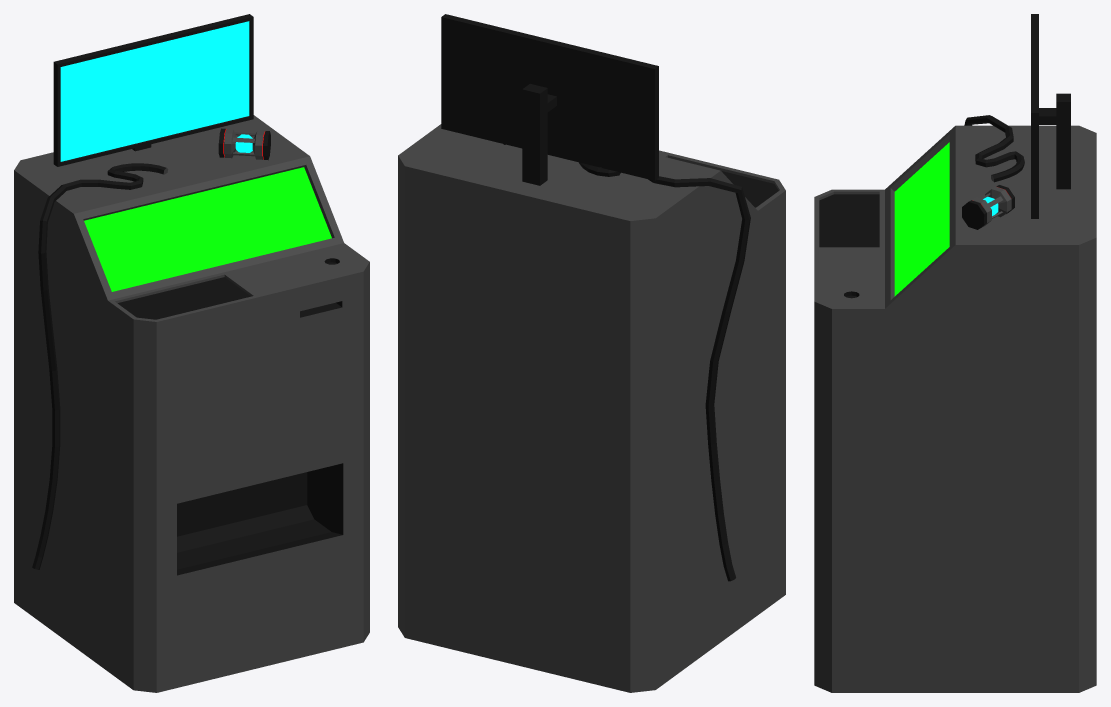
Rendered from FabricationTerminalImport.fbx.
3 renders of one model, left to right at view 1: azimuth 30°, elevation 25°; view 2: azimuth 150°, elevation 25°; view 3: azimuth 270°, elevation 25°, orthographic. The views are drawn at different scales.
Visible parts, largest first — view 1: Fabrication Terminal; view 2: Fabrication Terminal; view 3: Fabrication Terminal.
Boxes of the visible parts, x1=… form: Fabrication Terminal: x1=14, y1=14, x2=369, y2=692; Fabrication Terminal: x1=398, y1=14, x2=785, y2=692; Fabrication Terminal: x1=814, y1=14, x2=1096, y2=692.
Bounding box in the file's own units: 90.46 × 178 × 80.
